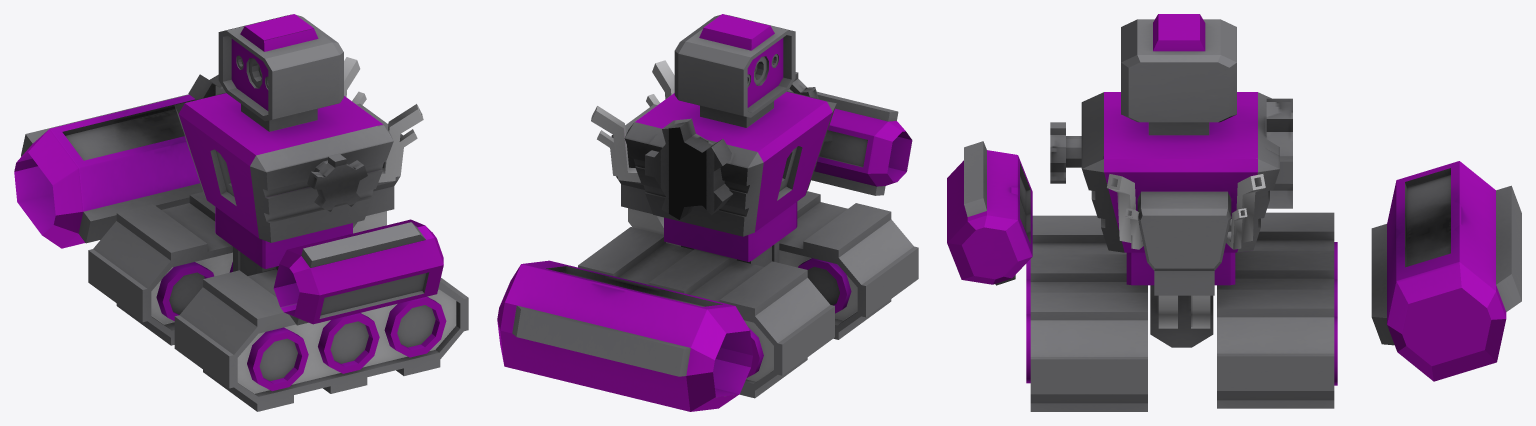
The model's file is Enemy2_Die11.obj.
The picture shows the model from 3 angles, left to right: view 1: azimuth 30°, elevation 25°; view 2: azimuth 150°, elevation 25°; view 3: azimuth 270°, elevation 25°; orthographic projection. The views are drawn at different scales.
Visible parts, largest first — view 1: Object006, Object013, Object011, Object014, Object012, Object010, Object008, Object009; view 2: Object006, Object011, Object013, Object012, Object014, Object009, Object010; view 3: Object006, Object011, Object013, Object012, Object010, Object014, Object009, Object008.
Part boxes in pixels (box(x1,y1,x2,y2)): Object006: box(88, 192, 468, 411); Object013: box(174, 93, 393, 275); Object011: box(14, 94, 203, 248); Object014: box(273, 219, 443, 325); Object012: box(218, 14, 343, 131); Object010: box(344, 57, 423, 233); Object008: box(307, 154, 367, 211); Object009: box(188, 74, 225, 99); Object006: box(578, 191, 918, 398); Object011: box(497, 260, 752, 411); Object013: box(624, 91, 836, 266); Object012: box(674, 14, 795, 127); Object014: box(811, 91, 912, 195); Object009: box(645, 118, 732, 219); Object010: box(591, 60, 680, 246); Object006: box(1026, 212, 1337, 411); Object011: box(1371, 161, 1521, 381); Object013: box(1081, 92, 1279, 347); Object012: box(1121, 14, 1236, 135); Object010: box(1107, 174, 1265, 328); Object014: box(947, 141, 1032, 285); Object009: box(1266, 98, 1292, 208); Object008: box(1050, 122, 1081, 183).
Bounding box in the file's own units: 87.45 × 108 × 168.
